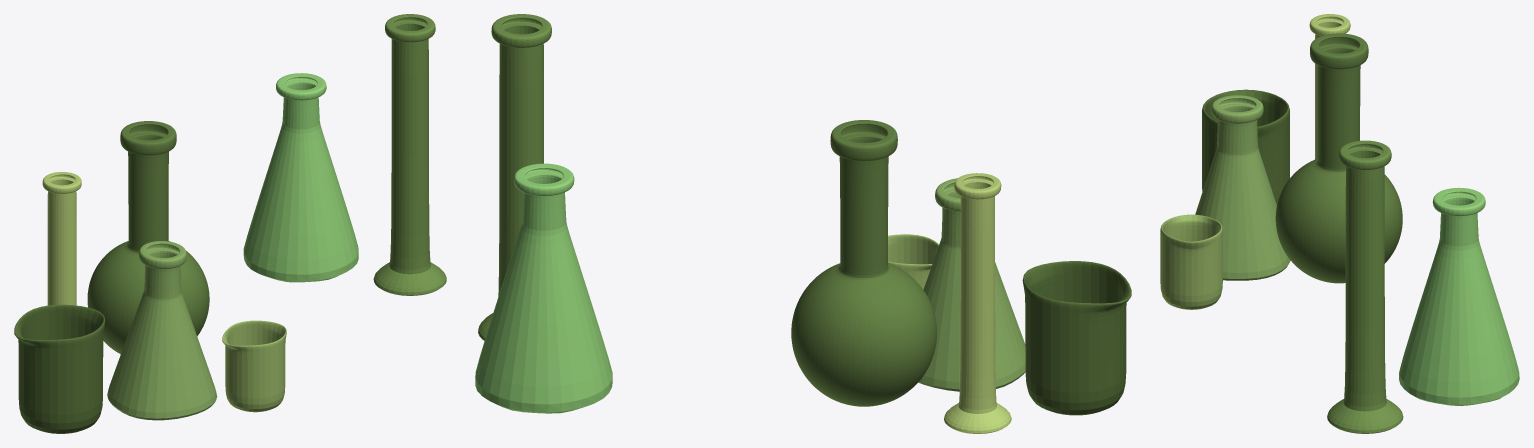
File: Beaker_Group2.glb
The picture shows the model from 3 angles, left to right: view 1: azimuth 30°, elevation 25°; view 2: azimuth 150°, elevation 25°; view 3: azimuth 270°, elevation 25°; orthographic projection. The views are drawn at different scales.
Parts seen in each view (by area): view 1: pCylinder6, pCylinder1, pCylinder5, pSphere1, pCylinder2, pCylinder3, pCylinder4; view 2: pSphere1, pCylinder6, pCylinder2, pCylinder4, pCylinder5, pCylinder1, pCylinder3; view 3: pCylinder6, pSphere1, pCylinder5, pCylinder1, pCylinder3, pCylinder2, pCylinder4.
Part boxes in pixels (x1,y1,x2,y2): pCylinder6: [243, 73, 358, 282]; pCylinder1: [107, 241, 217, 420]; pCylinder5: [373, 14, 446, 295]; pSphere1: [87, 121, 209, 354]; pCylinder2: [14, 304, 105, 433]; pCylinder3: [222, 320, 286, 412]; pCylinder4: [42, 172, 81, 305]; pSphere1: [791, 120, 936, 406]; pCylinder6: [475, 163, 612, 413]; pCylinder2: [1022, 261, 1131, 415]; pCylinder4: [944, 173, 1011, 433]; pCylinder5: [478, 14, 551, 340]; pCylinder1: [918, 178, 1025, 391]; pCylinder3: [888, 234, 938, 289]; pCylinder6: [1399, 187, 1519, 405]; pSphere1: [1275, 33, 1402, 283]; pCylinder5: [1327, 140, 1403, 433]; pCylinder1: [1195, 95, 1290, 280]; pCylinder3: [1160, 214, 1222, 309]; pCylinder2: [1202, 89, 1289, 204]; pCylinder4: [1309, 14, 1350, 159].
Size of the model in its own units: 3.28 by 1.7 by 2.03.
